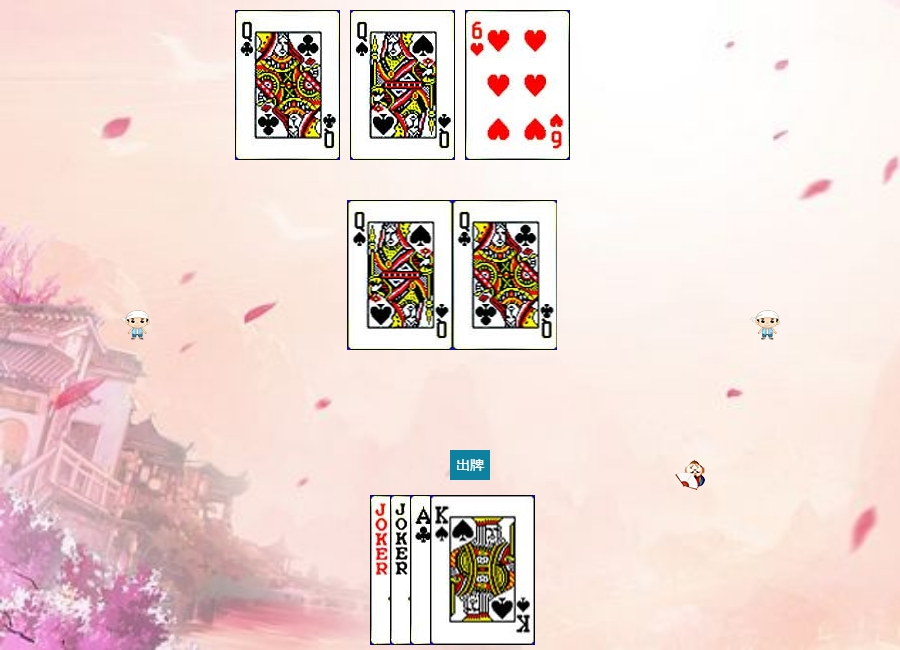12~2: (235, 10, 340, 160), (453, 200, 558, 350)
12~4: (350, 10, 455, 160), (348, 200, 453, 350)
13~4: (430, 495, 535, 645)
14~2: (410, 495, 515, 645)
17~3: (390, 495, 495, 645)
18~4: (370, 495, 475, 645)
6~3: (465, 10, 570, 160)
